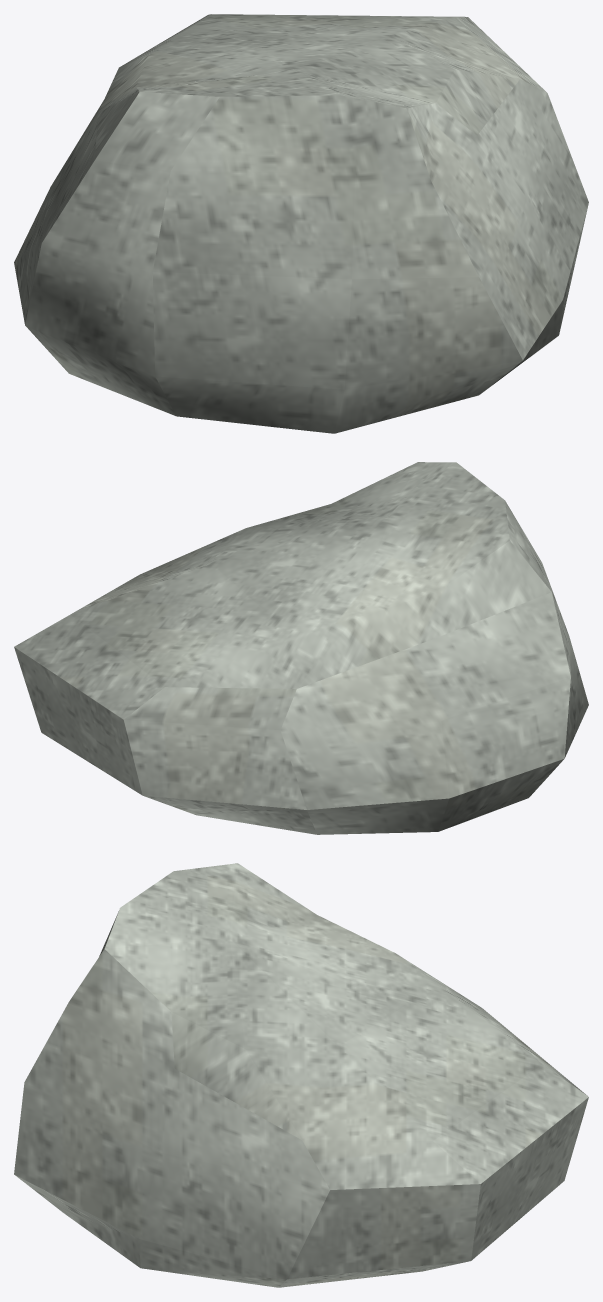
File: rock-c.glb
The picture shows the model from 3 angles, top to bottom: view 1: azimuth 30°, elevation 25°; view 2: azimuth 150°, elevation 25°; view 3: azimuth 270°, elevation 25°; orthographic projection. The views are drawn at different scales.
Parts seen in each view (by area): view 1: gather-rock-c; view 2: gather-rock-c; view 3: gather-rock-c.
Boxes of the visible parts, x1=… form: gather-rock-c: x1=14, y1=14, x2=588, y2=433; gather-rock-c: x1=14, y1=462, x2=588, y2=834; gather-rock-c: x1=14, y1=863, x2=588, y2=1287.
Size of the model in its own units: 0.982 by 0.522 by 0.994.
Materials: 1 (1 with a texture image).
